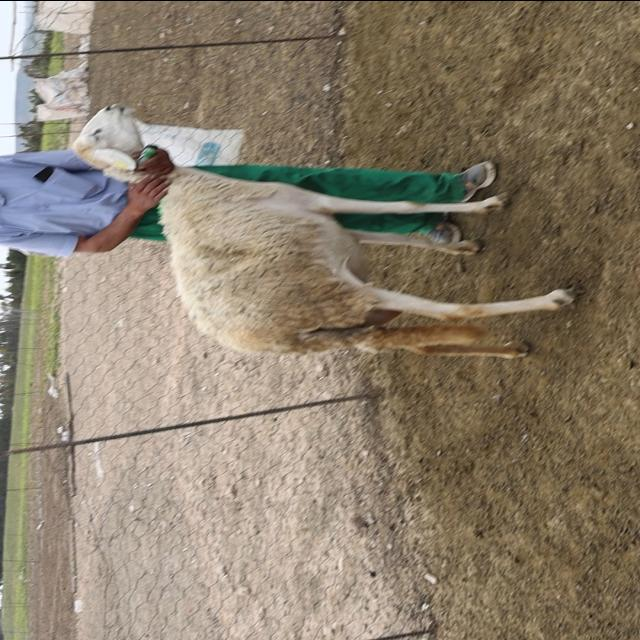Score_2: (161, 166, 574, 357)
